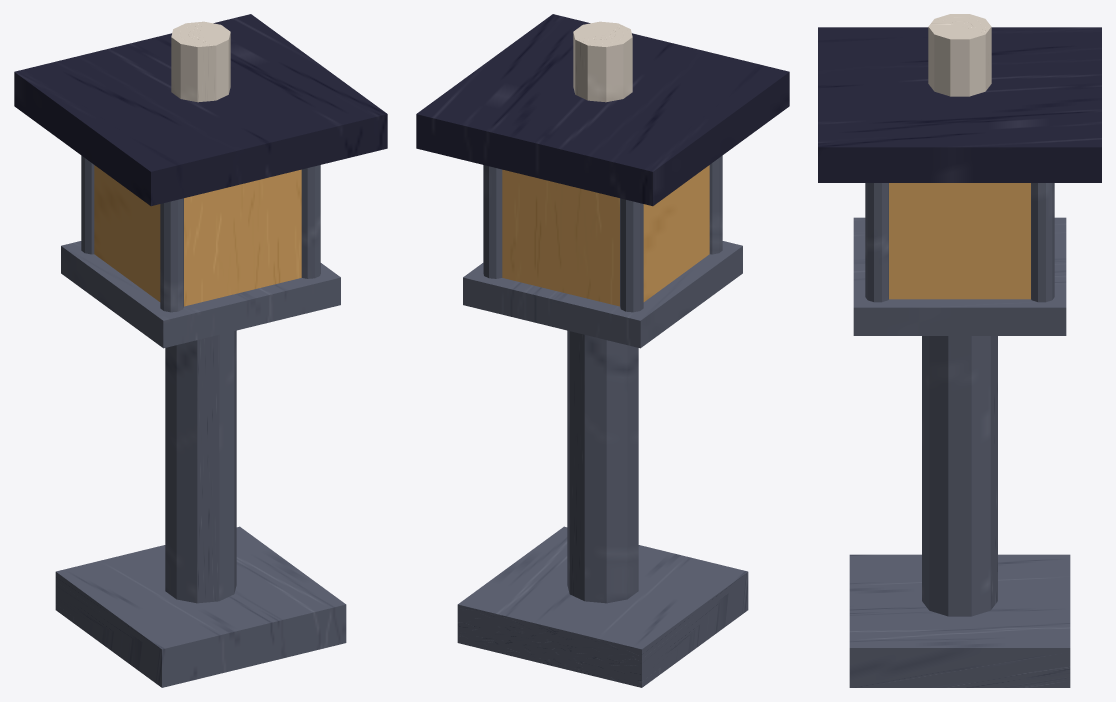
The model's file is v08_dojo_stone_lantern_lod0.glb.
The picture shows the model from 3 angles, left to right: view 1: azimuth 30°, elevation 25°; view 2: azimuth 150°, elevation 25°; view 3: azimuth 270°, elevation 25°; orthographic projection. The views are drawn at different scales.
Parts seen in each view (by area): view 1: dojo_stone_lantern_004, dojo_stone_lantern_000, dojo_stone_lantern_003, dojo_stone_lantern_001, dojo_stone_lantern_002, dojo_stone_lantern_009, dojo_stone_lantern_006, dojo_stone_lantern_008, dojo_stone_lantern_005; view 2: dojo_stone_lantern_004, dojo_stone_lantern_000, dojo_stone_lantern_003, dojo_stone_lantern_001, dojo_stone_lantern_002, dojo_stone_lantern_009, dojo_stone_lantern_005, dojo_stone_lantern_007, dojo_stone_lantern_006; view 3: dojo_stone_lantern_004, dojo_stone_lantern_000, dojo_stone_lantern_001, dojo_stone_lantern_003, dojo_stone_lantern_002, dojo_stone_lantern_009, dojo_stone_lantern_007, dojo_stone_lantern_008.
Part boxes in pixels (x1,y1,x2,y2): dojo_stone_lantern_004: (14, 14, 387, 206); dojo_stone_lantern_000: (55, 526, 346, 687); dojo_stone_lantern_003: (94, 165, 301, 306); dojo_stone_lantern_001: (165, 330, 236, 603); dojo_stone_lantern_002: (61, 241, 340, 348); dojo_stone_lantern_009: (171, 21, 230, 102); dojo_stone_lantern_006: (160, 198, 183, 312); dojo_stone_lantern_008: (301, 165, 320, 278); dojo_stone_lantern_005: (81, 155, 94, 254); dojo_stone_lantern_004: (416, 14, 789, 206); dojo_stone_lantern_000: (457, 526, 748, 687); dojo_stone_lantern_003: (502, 165, 709, 306); dojo_stone_lantern_001: (567, 330, 638, 603); dojo_stone_lantern_002: (463, 241, 742, 348); dojo_stone_lantern_009: (573, 21, 632, 102); dojo_stone_lantern_005: (620, 198, 643, 312); dojo_stone_lantern_007: (483, 165, 502, 278); dojo_stone_lantern_006: (709, 155, 722, 254); dojo_stone_lantern_004: (818, 27, 1101, 182); dojo_stone_lantern_000: (849, 554, 1070, 687); dojo_stone_lantern_001: (922, 336, 997, 616); dojo_stone_lantern_003: (889, 183, 1030, 299); dojo_stone_lantern_002: (853, 217, 1066, 335); dojo_stone_lantern_009: (928, 14, 991, 96); dojo_stone_lantern_007: (1031, 183, 1054, 302); dojo_stone_lantern_008: (865, 183, 888, 302).
Bounding box in the file's own units: 1.8 × 4.3 × 1.8.
Materials: 4 (4 with a texture image).
